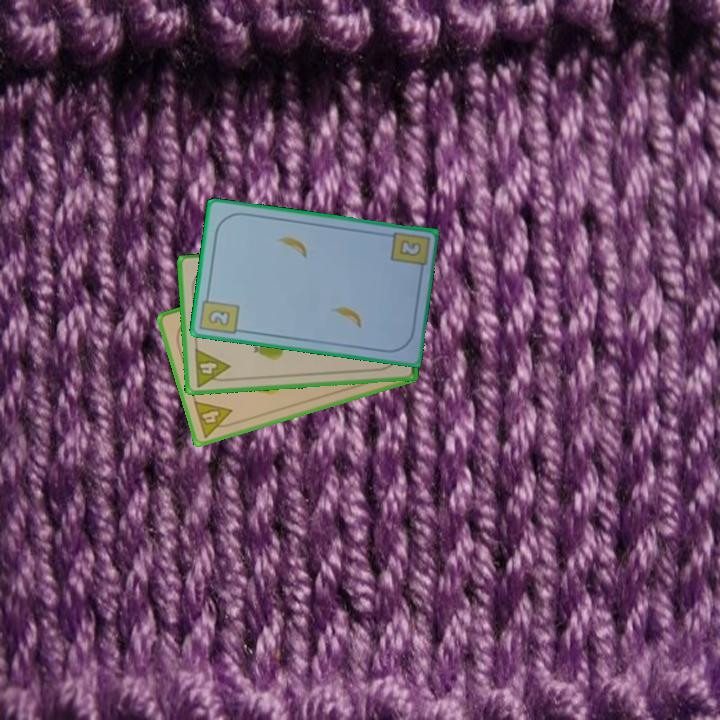2b: (197, 289, 242, 337), (396, 236, 424, 259)
4p: (190, 397, 238, 440), (191, 345, 233, 390)
